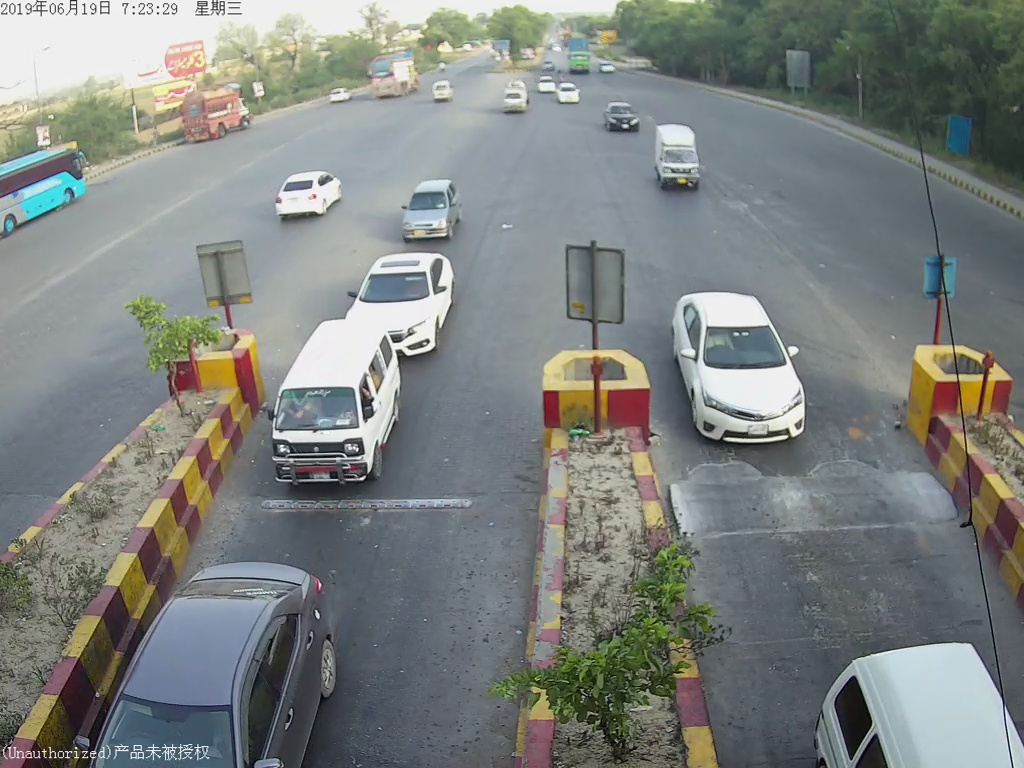Cat-1: (91, 564, 361, 768), (267, 316, 402, 498), (669, 295, 821, 447), (353, 259, 455, 322), (396, 176, 459, 243), (652, 129, 709, 197)
